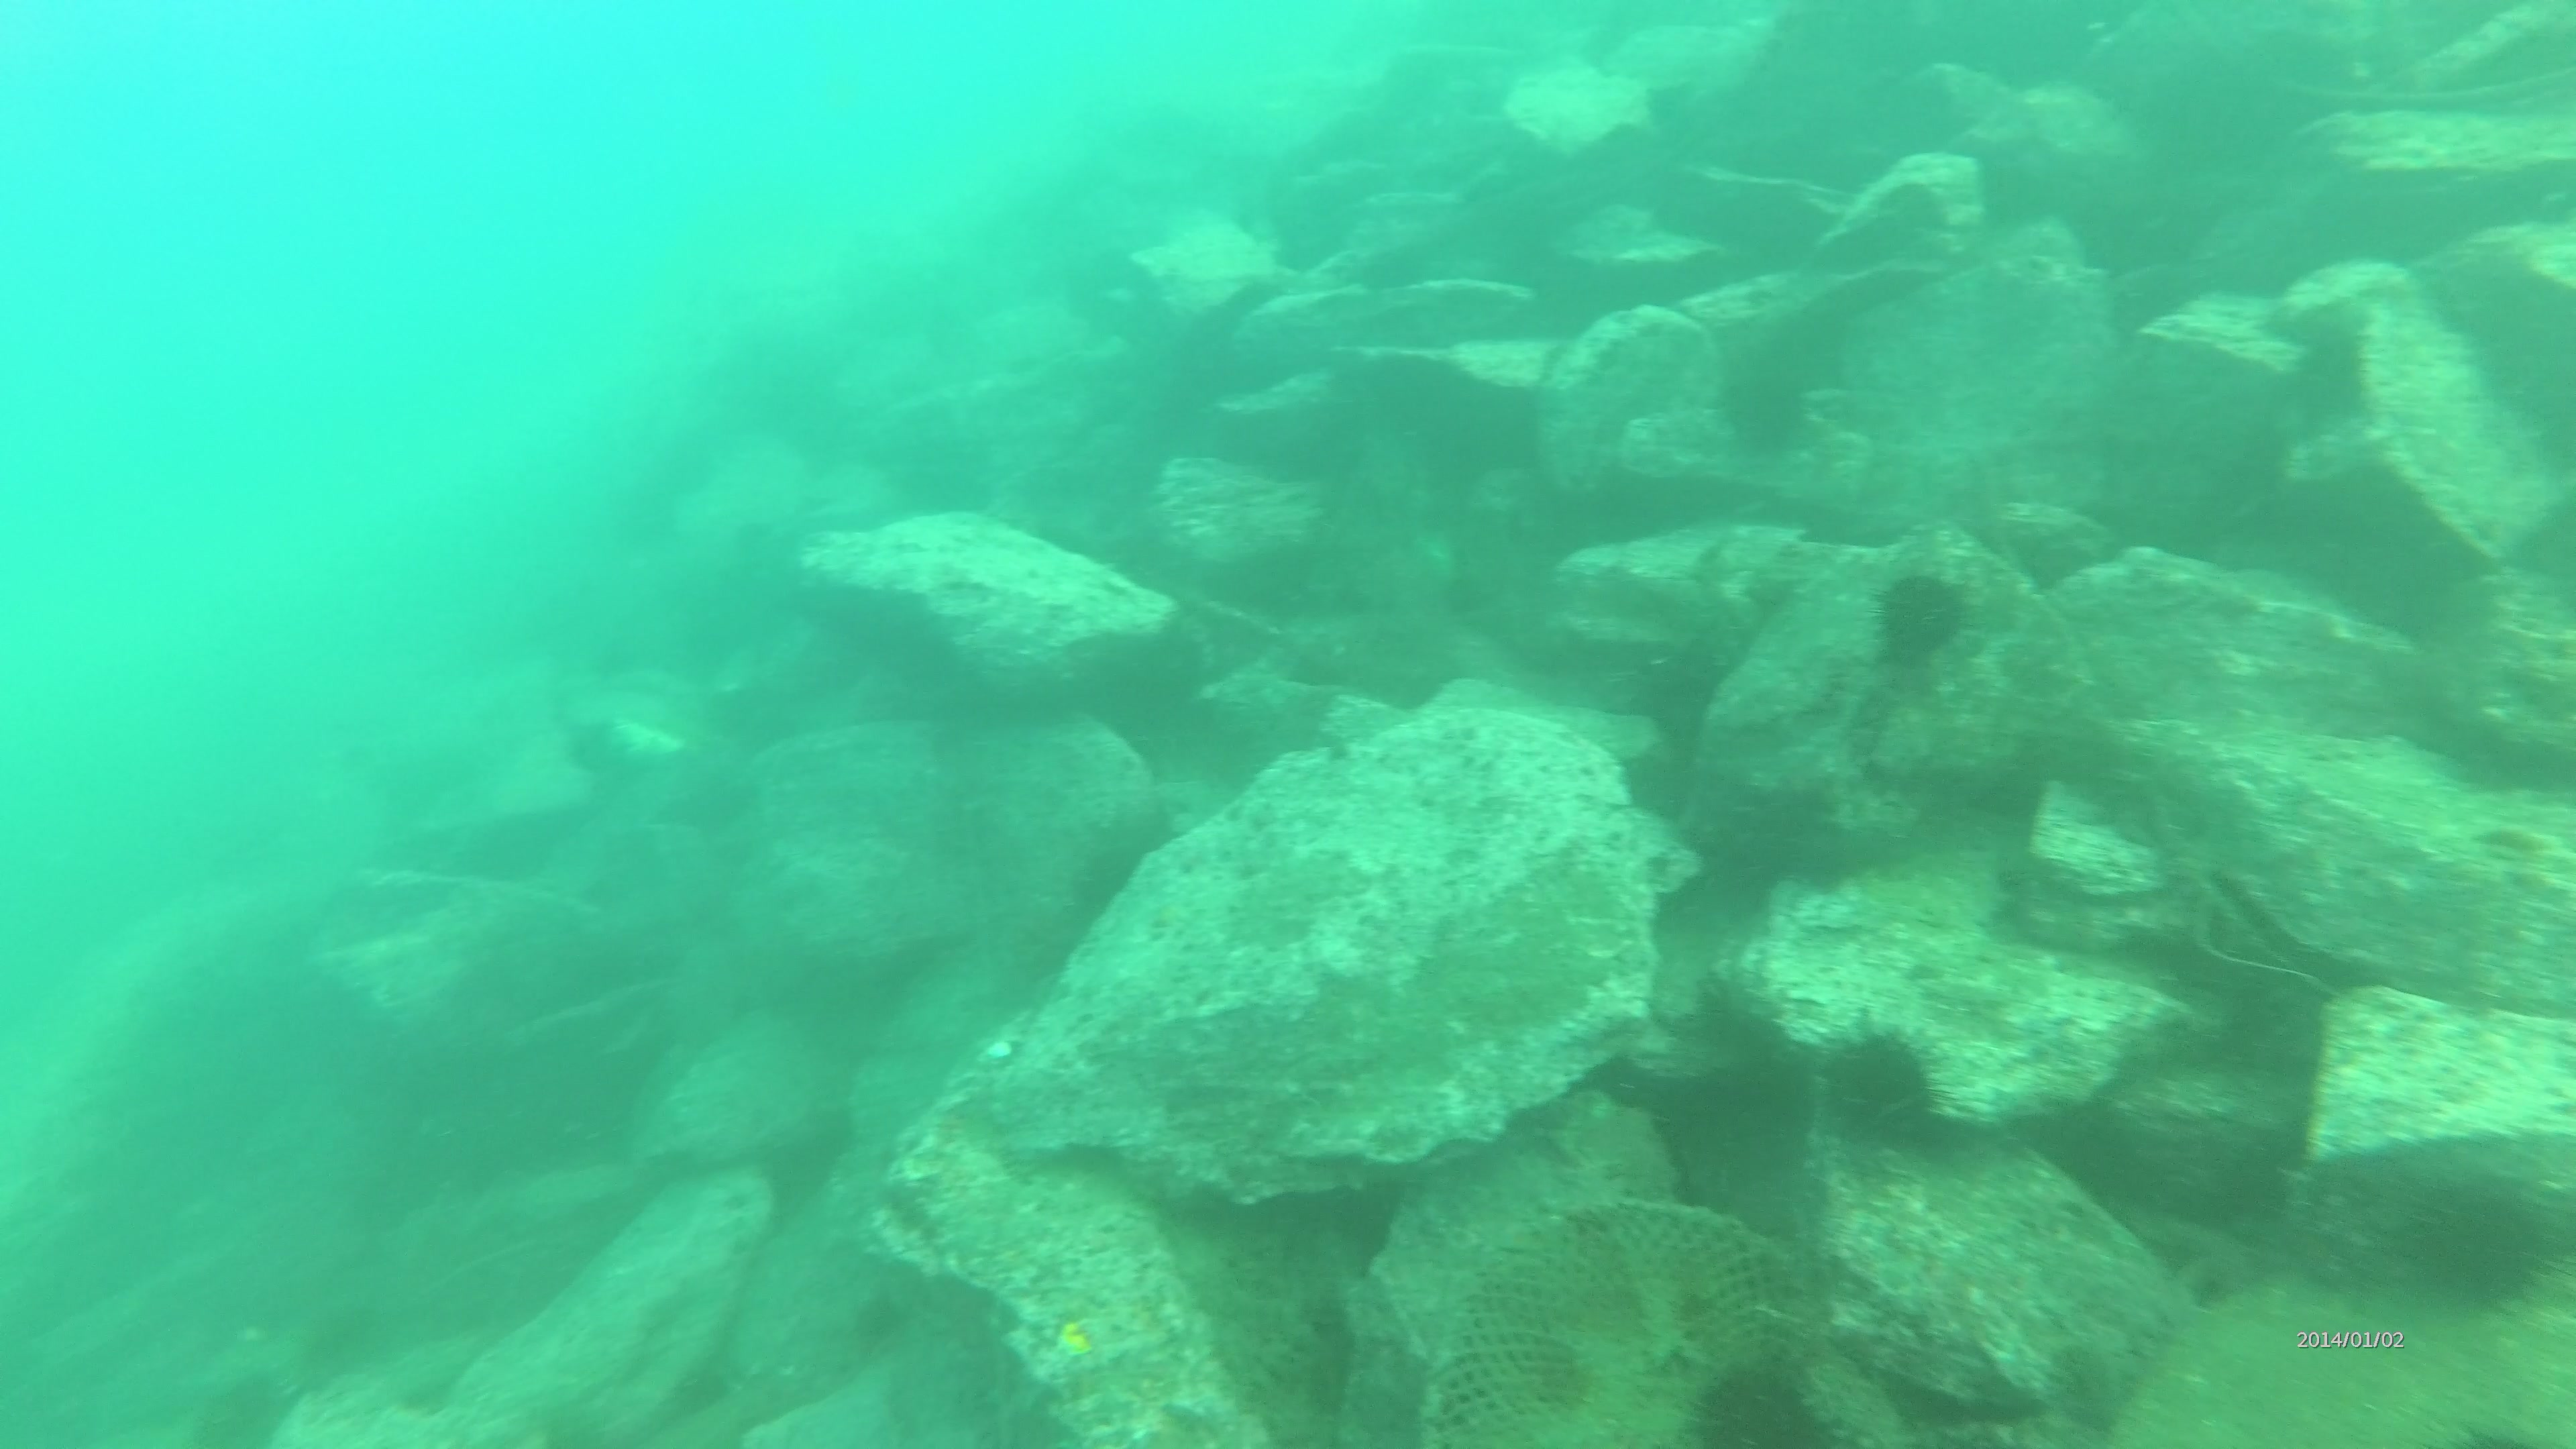echinus: (2390, 1187, 2548, 1332), (1817, 1019, 1953, 1157), (1698, 1352, 1829, 1449), (1867, 566, 1982, 672)
